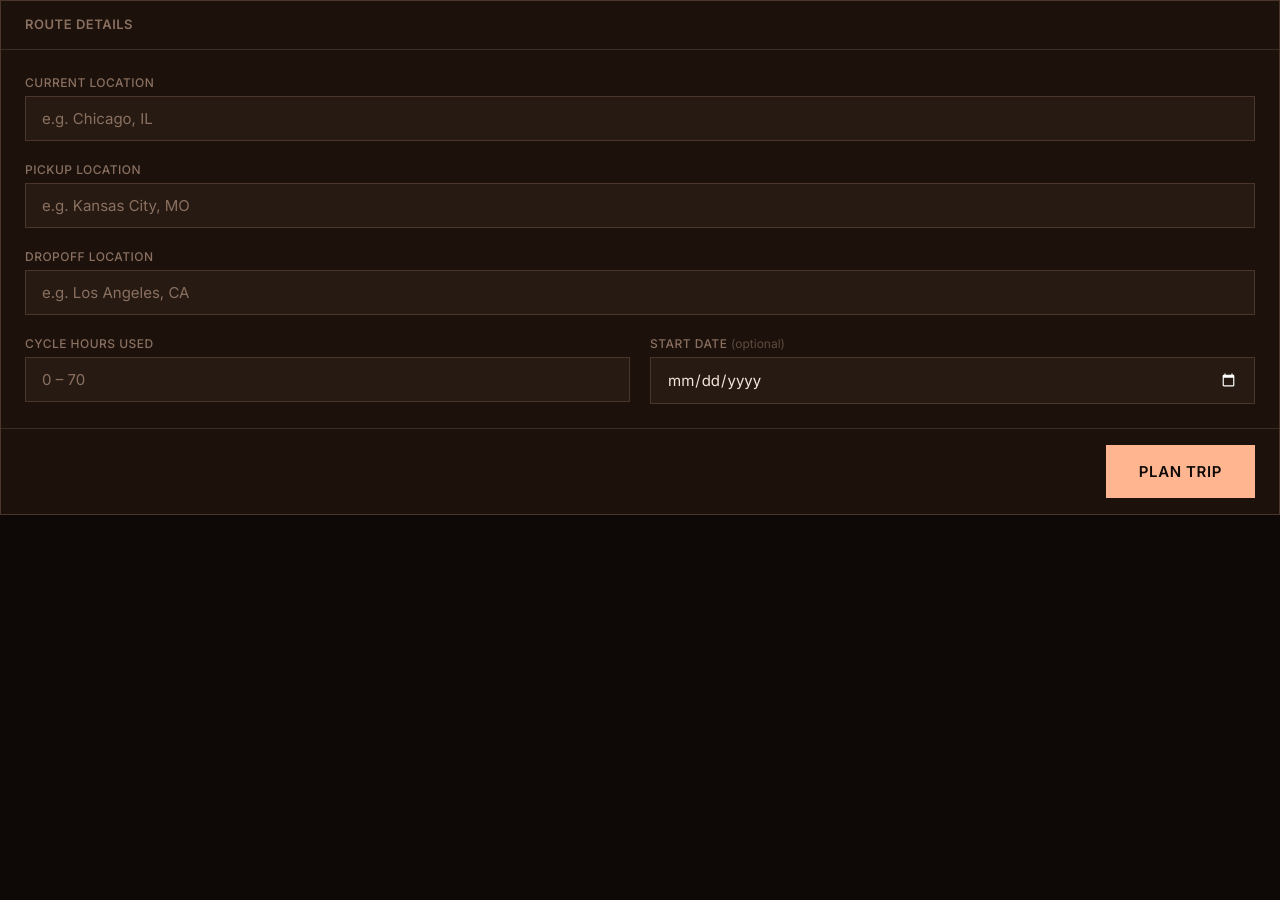
TripForm › shows validation errors for all required fields when submitted empty
The image size is (1280, 900).
Click the button "Plan Trip": (1180, 471) top-left (1106, 445), bottom-right (1255, 498)
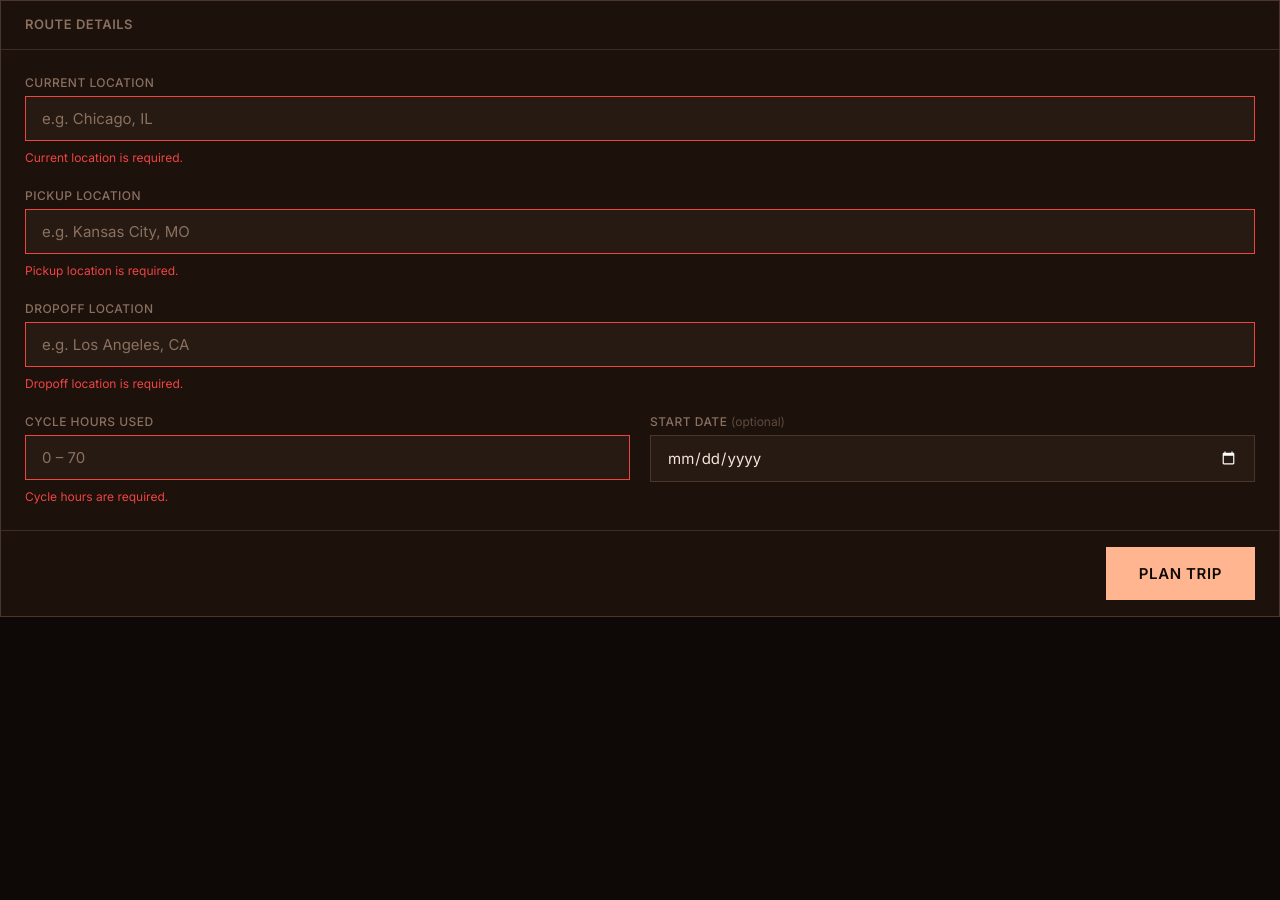
Now the text "Current location is required." is shown, box top-left (25, 150), bottom-right (183, 165)
Now the text "Pickup location is required." is shown, box top-left (25, 263), bottom-right (178, 278)
Now the text "Dropoff location is required." is shown, box top-left (25, 376), bottom-right (183, 391)
